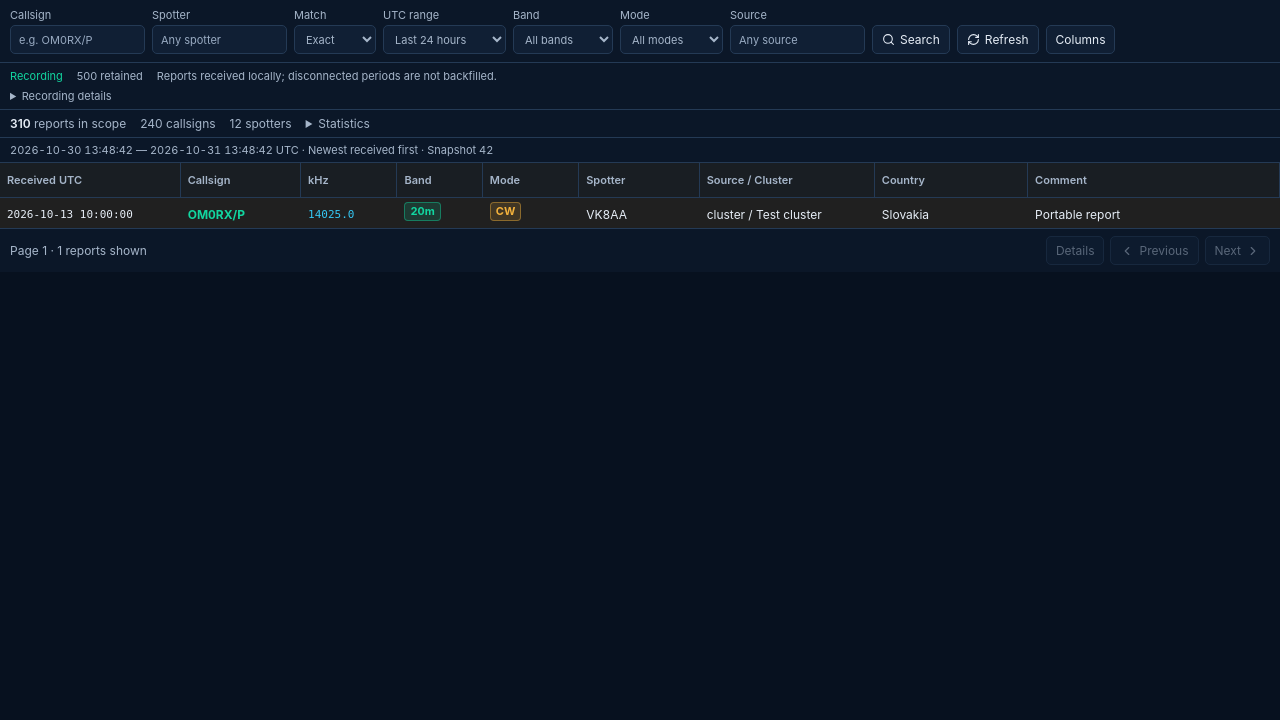
Spot History scope and paging › restores keyboard focus to the persistent Details control after closing a report
Click the text "OM0RX/P": (241, 215) left=181, top=198, right=301, bottom=232
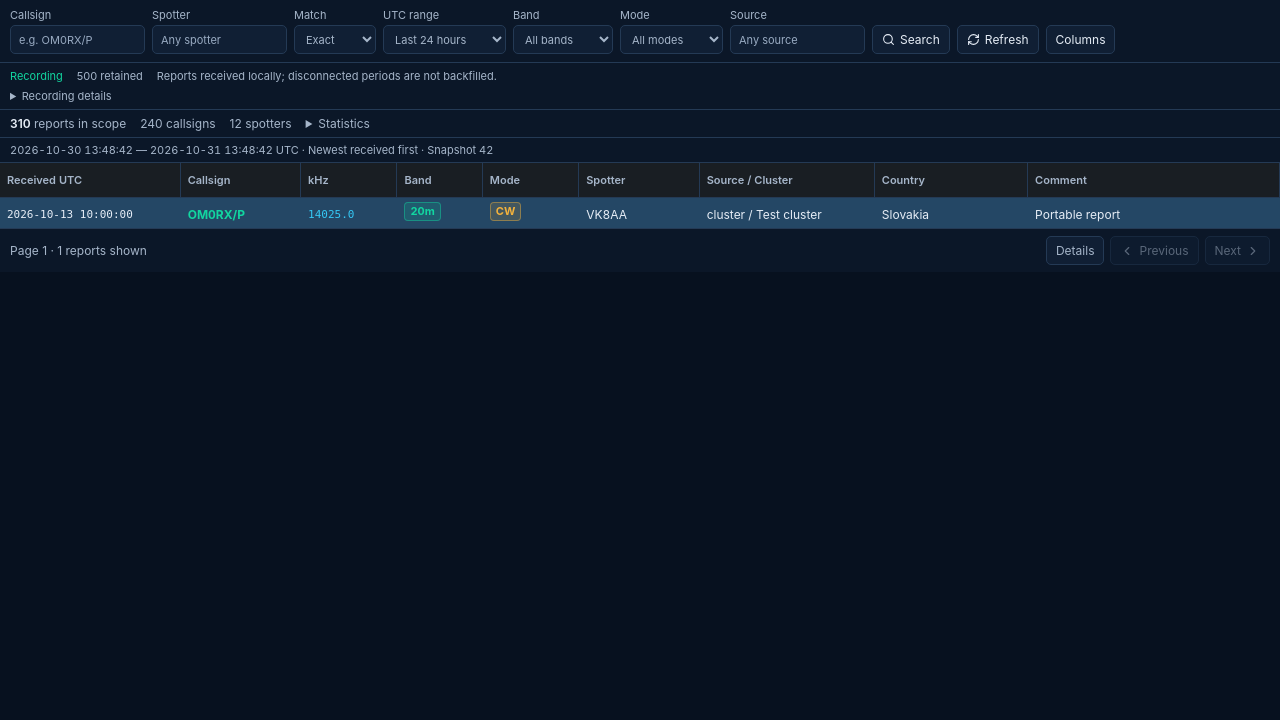
Click the button "Details": (1075, 250) left=1046, top=236, right=1104, bottom=265
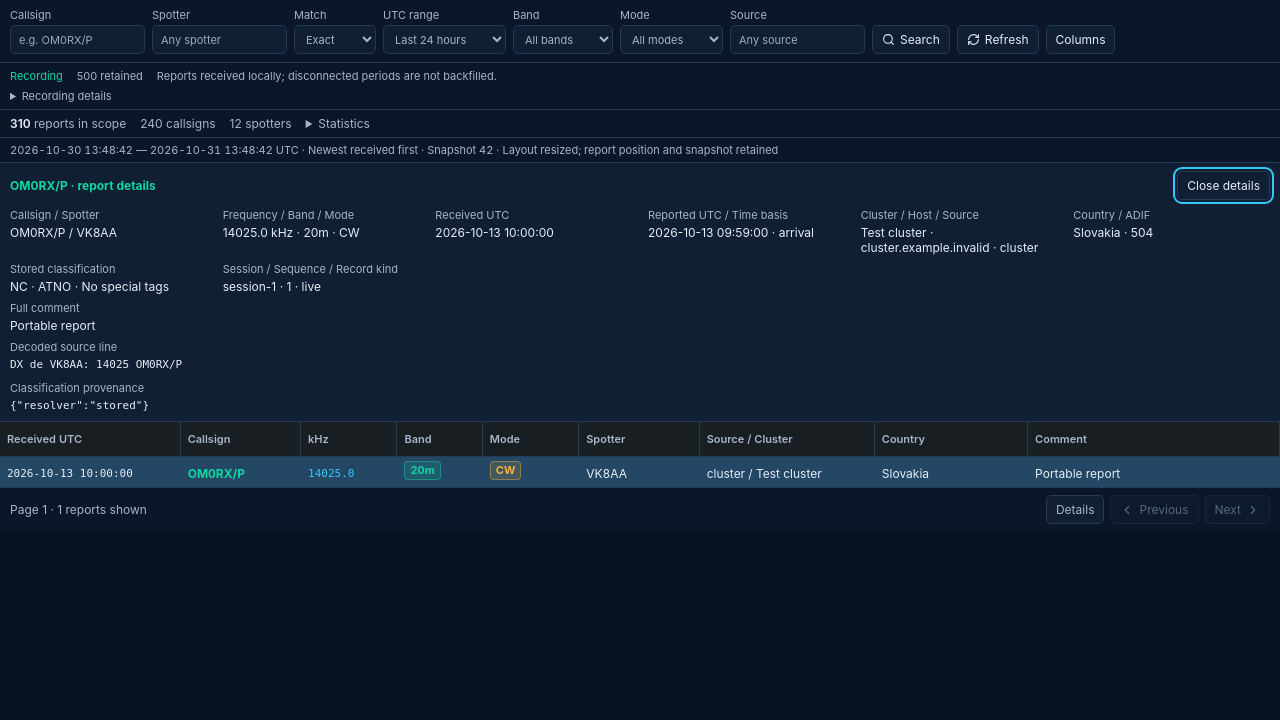
Click the button "Close details": (1224, 186) left=1177, top=171, right=1270, bottom=200
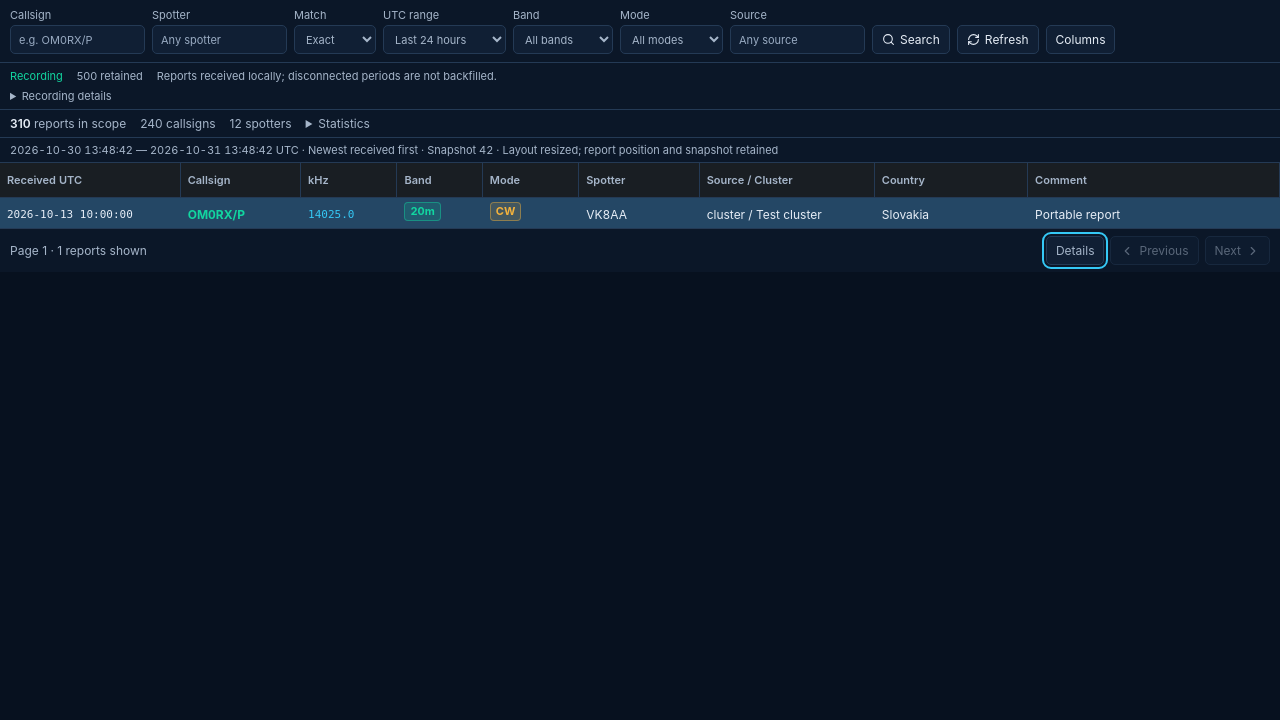
Expected: the button "Close details" is gone
